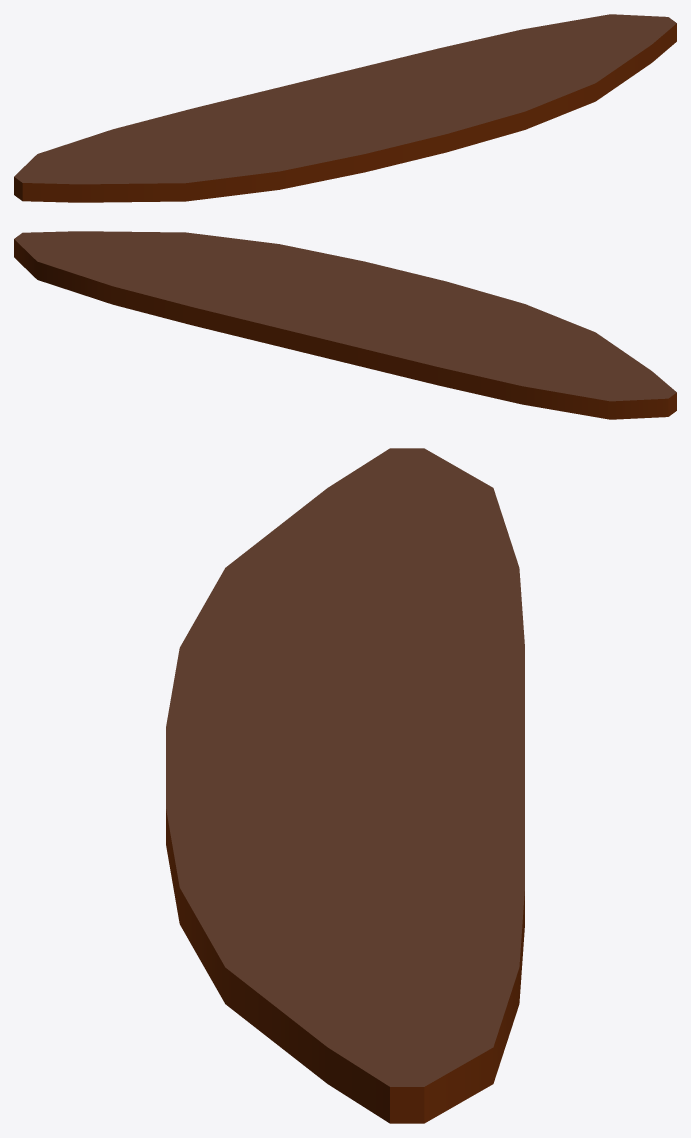
The model's file is shelf_clickable.glb.
3 views of the same model, one above another, from view 1: azimuth 30°, elevation 25°; view 2: azimuth 150°, elevation 25°; view 3: azimuth 270°, elevation 25° (orthographic). The views are drawn at different scales.
Parts seen in each view (by area): view 1: shelf; view 2: shelf; view 3: shelf.
Boxes of the visible parts, left/top/right/bottom form: shelf: left=14, top=14, right=676, bottom=202; shelf: left=14, top=231, right=676, bottom=419; shelf: left=166, top=448, right=524, bottom=1123.
Size of what is drawn, in the model's own units: 3.6 by 0.0965 by 0.8556.
Materials: 1 (1 with a texture image).
